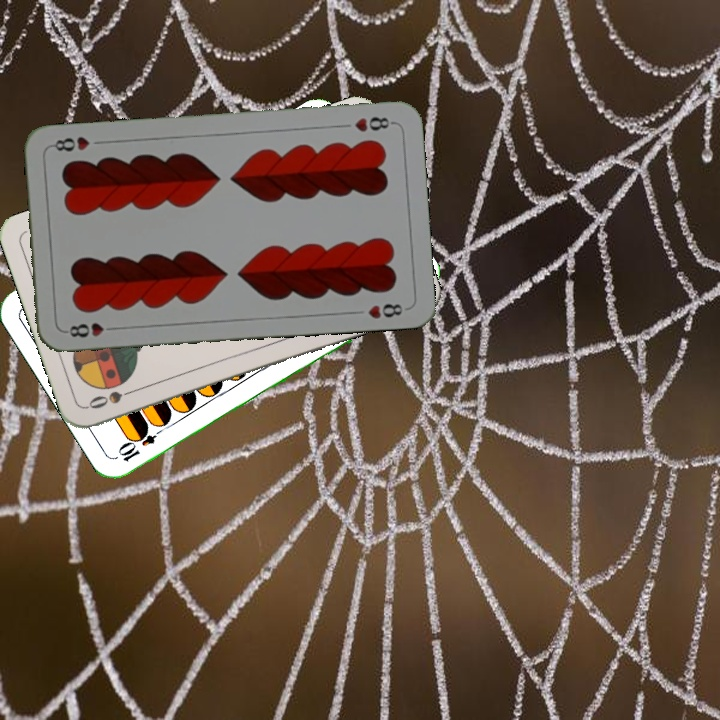E10: (114, 421, 168, 465)
H8: (61, 319, 120, 340), (350, 113, 396, 135)
SO: (84, 384, 141, 412)
